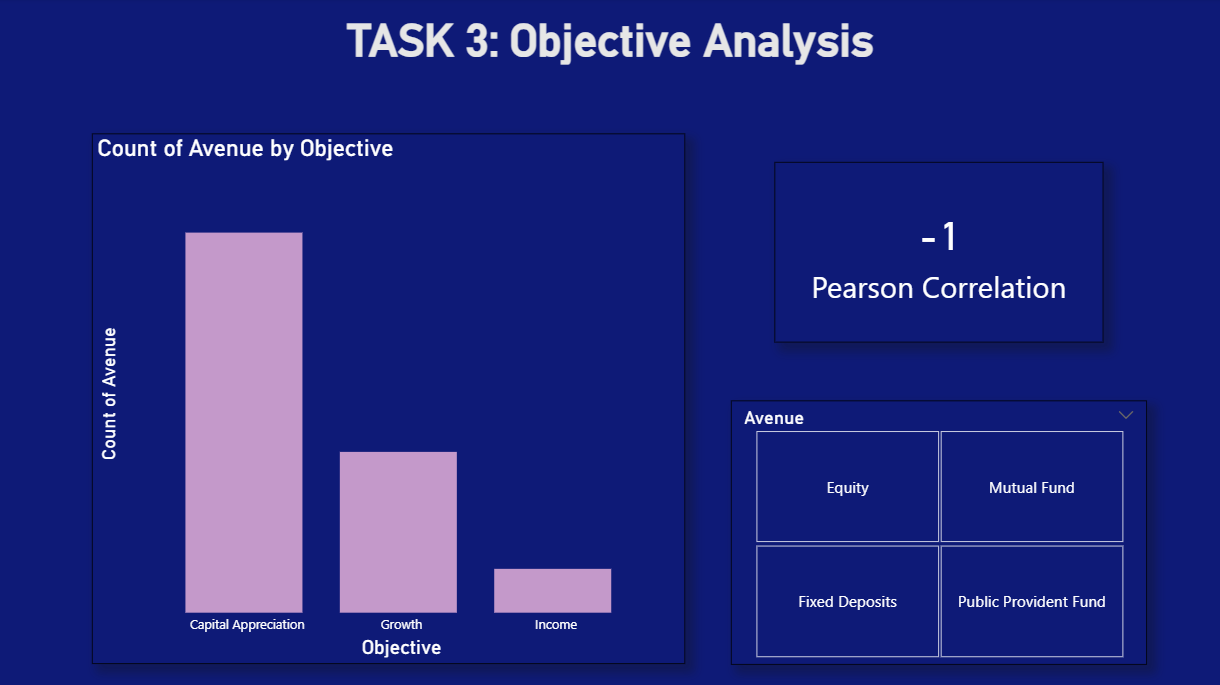

Layout of this report page (visuals, bound fields, positions):
{"tool":"powerbi","page":{"name":"Task 3","canvas":[1280,720],"ordinal":2},"visuals":[{"type":"textbox","title":"TASK 3: Objective Analysis","box":[21.8,16.8,1236.3,62.2],"z":0},{"type":"clusteredColumnChart","fields":{"Y":["CountNonNull(Data_set 2.Avenue)"],"Category":["Data_set 2.Objective"]},"box":[100.8,142.8,618.2,552.7],"z":1000},{"type":"slicer","fields":{"Values":["Data_set 2.Avenue"]},"box":[766,419.9,433.4,275.5],"z":2000},{"type":"card","fields":{"Values":["Data_set 2.Pearson Correlation"]},"box":[811.3,171.3,342.7,188.1],"z":3000}]}

Visuals, with their boxes in screenshot pixels (x1, y1, x2, y2), scaled from the page's 1280x720 canvas onto the 1220x685 screenshot:
"TASK 3: Objective Analysis" textbox: box=[21, 16, 1199, 75]
clusteredColumnChart - CountNonNull(Data_set 2.Avenue) x Data_set 2.Objective: box=[96, 136, 685, 662]
slicer - Data_set 2.Avenue: box=[730, 399, 1143, 662]
card - Data_set 2.Pearson Correlation: box=[773, 163, 1100, 342]
